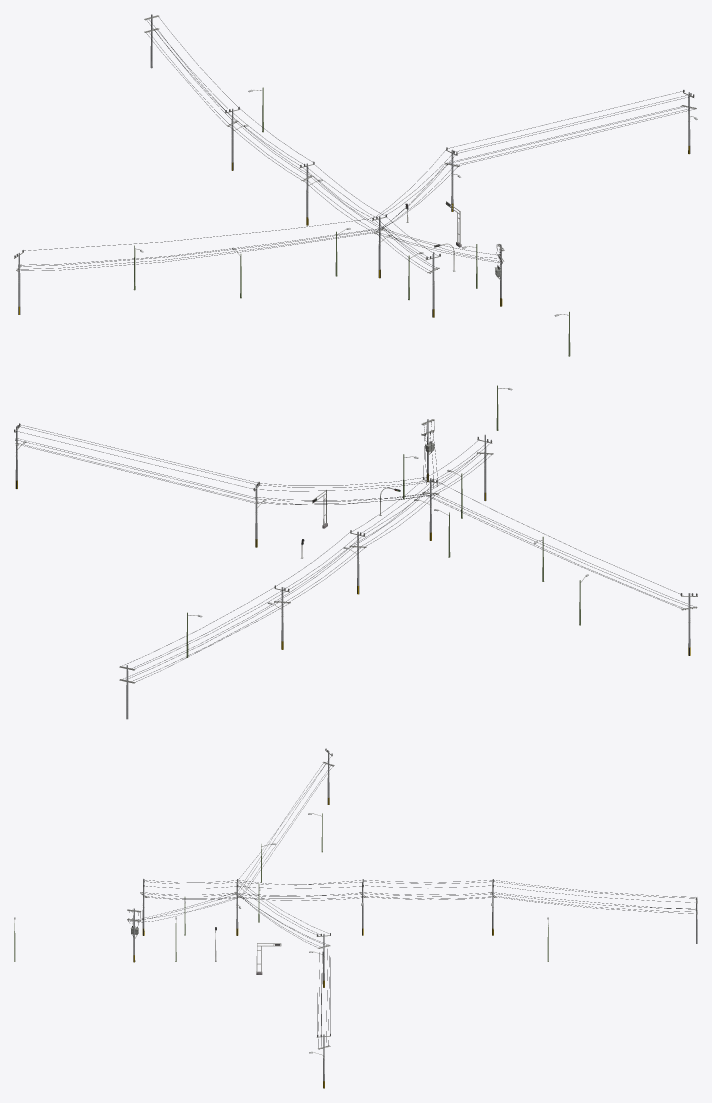
File: luces.glb
The picture shows the model from 3 angles, top to bottom: view 1: azimuth 30°, elevation 25°; view 2: azimuth 150°, elevation 25°; view 3: azimuth 270°, elevation 25°; orthographic projection. The views are drawn at different scales.
Bounding box in the file's own units: 161 × 14.74 × 161.
Materials: 14 (13 with a texture image).
